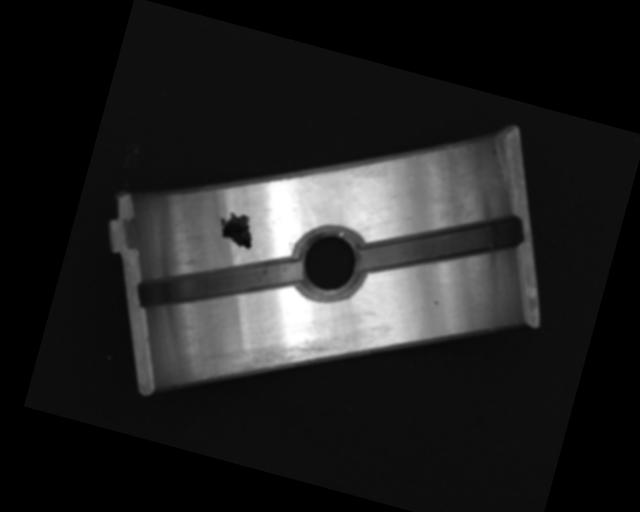blot: (212, 208, 260, 252)
bruise: (430, 298, 440, 308)
gap: (356, 182, 525, 308), (134, 224, 305, 343)
hole: (286, 217, 373, 307)
scratch: (197, 310, 350, 415)
